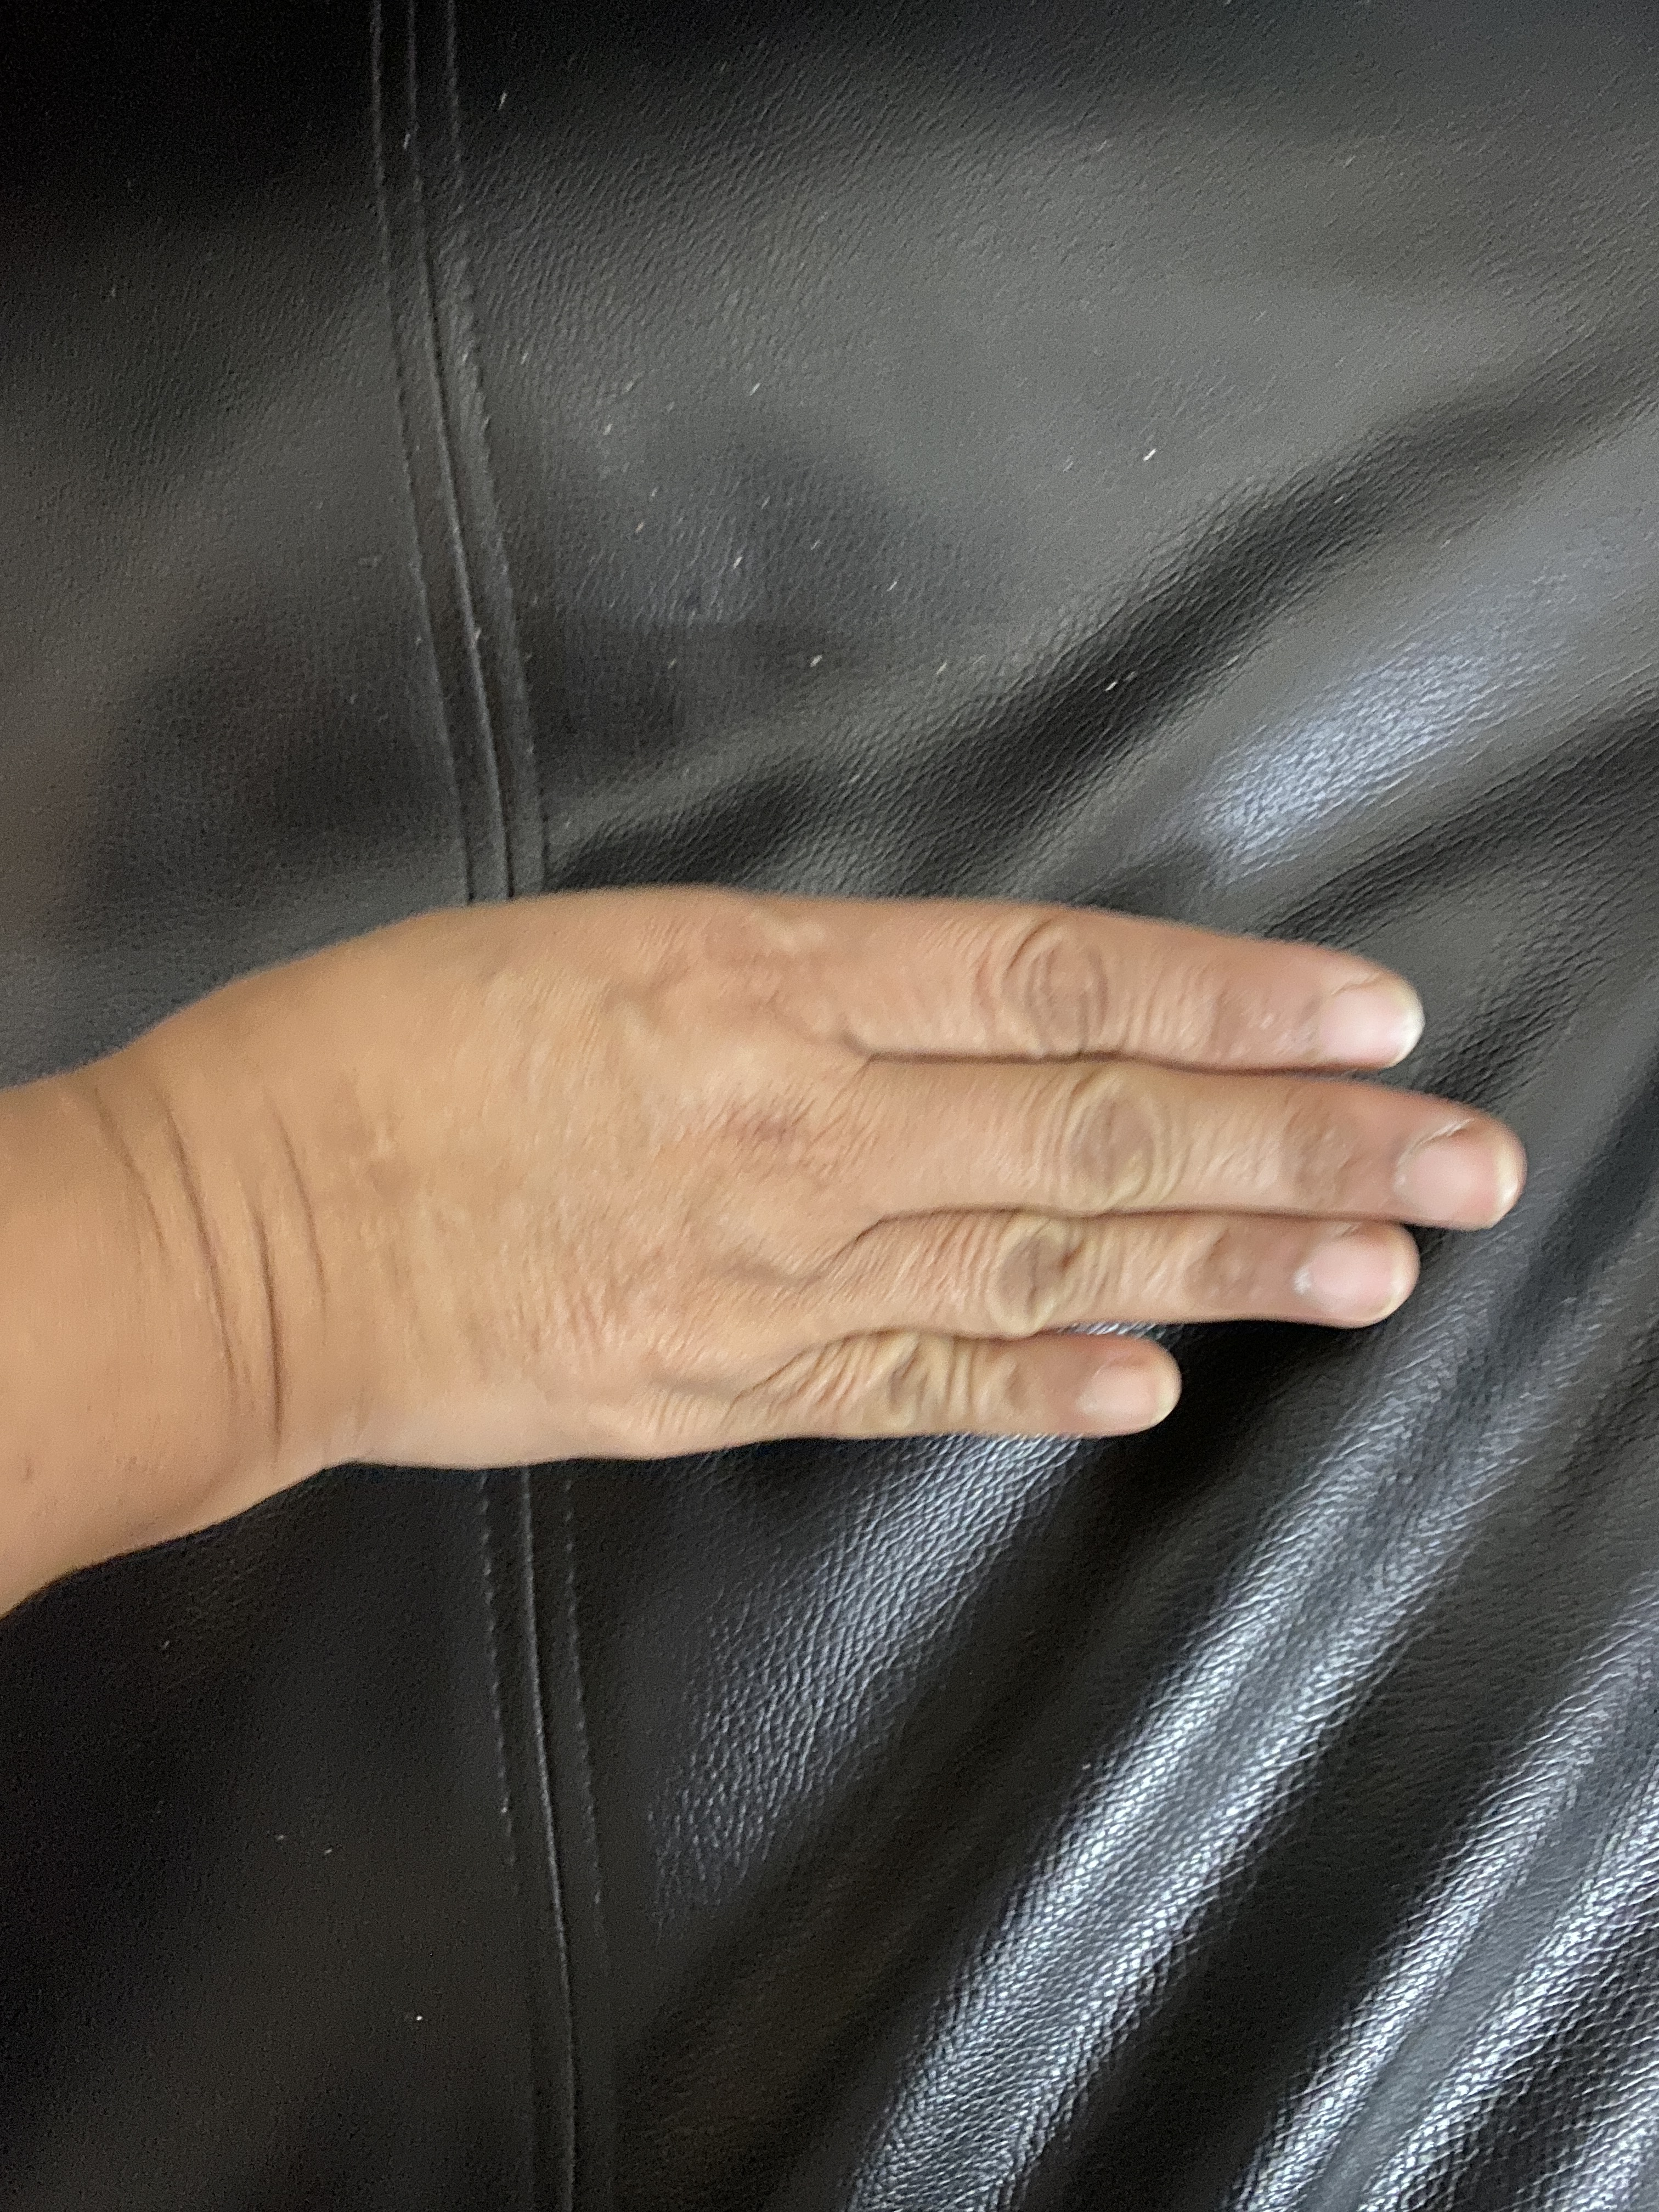left: (14, 786, 1636, 1674)
